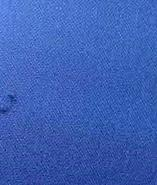knot: (1, 93, 19, 118)
